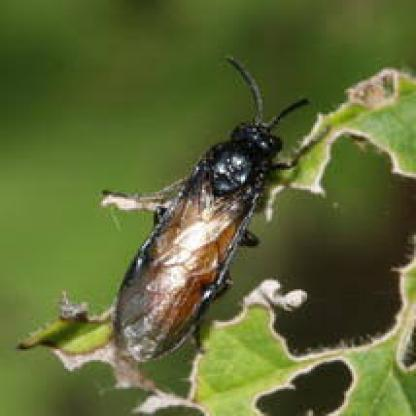sawfly: (105, 51, 311, 366)
